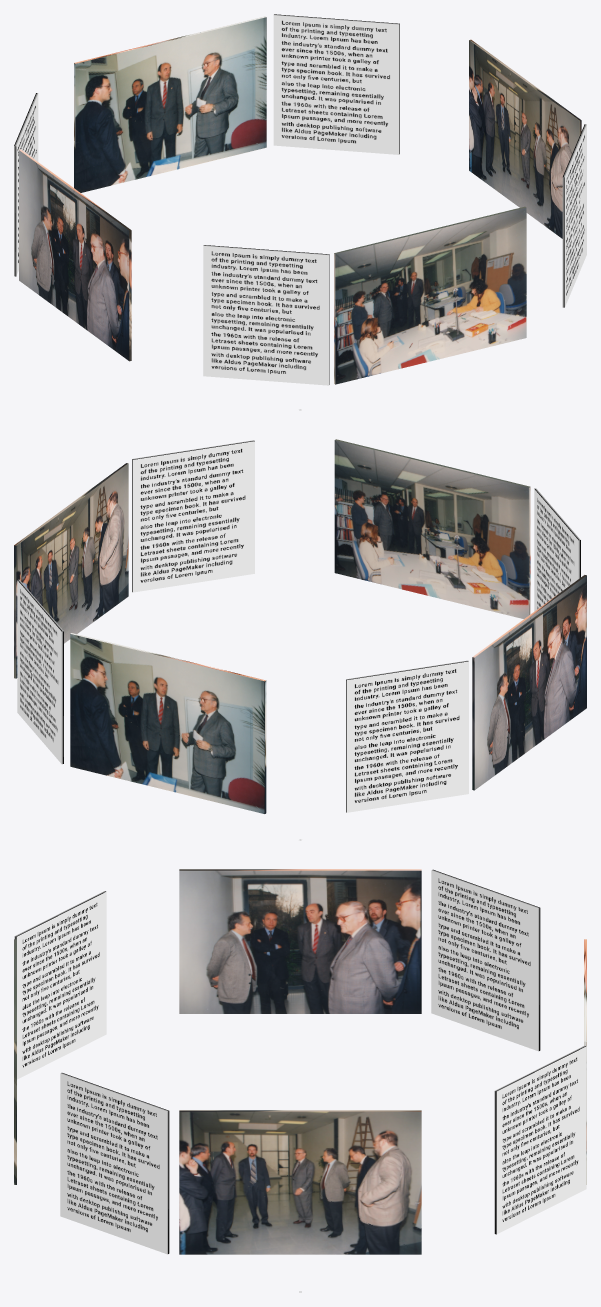
File: bundle004.glb
3 renders of one model, top to bottom at view 1: azimuth 30°, elevation 25°; view 2: azimuth 150°, elevation 25°; view 3: azimuth 270°, elevation 25°, orthographic. The views are drawn at different scales.
Visible parts, largest first — view 1: Board 004, Board 002, Board 001.001, Board 001.002, Board 003, Board 001, Board 001.004, Board 001.003; view 2: Board 002, Board 004, Board 001.004, Board 001.003, Board 003, Board 001, Board 001.002, Board 001.001; view 3: Board 001, Board 003, Board 001.003, Board 001.004, Board 001.002, Board 001.001, Board 004.
Part boxes in pixels (x1,y1,x2,y2): Board 004: (334, 206, 526, 384); Board 002: (74, 16, 266, 192); Board 001.001: (203, 245, 329, 385); Board 001.002: (273, 14, 399, 154); Board 003: (19, 149, 131, 361); Board 001: (469, 39, 581, 238); Board 001.004: (562, 124, 586, 307); Board 001.003: (14, 93, 38, 276); Board 002: (70, 633, 266, 813); Board 004: (334, 439, 530, 618); Board 001.004: (132, 440, 254, 592); Board 001.003: (346, 660, 468, 812); Board 003: (472, 575, 586, 790); Board 001: (14, 463, 128, 678); Board 001.002: (17, 579, 63, 764); Board 001.001: (534, 488, 580, 611); Board 001: (179, 1110, 421, 1254); Board 003: (179, 869, 421, 1013); Board 001.003: (431, 869, 540, 1051); Board 001.004: (60, 1073, 169, 1254); Board 001.002: (494, 1045, 586, 1234); Board 001.001: (14, 891, 106, 1079); Board 004: (14, 939, 16, 1184).
Bounding box in the file's own units: 6.84 × 3.97 × 6.84.
8 materials, 8 textured.
